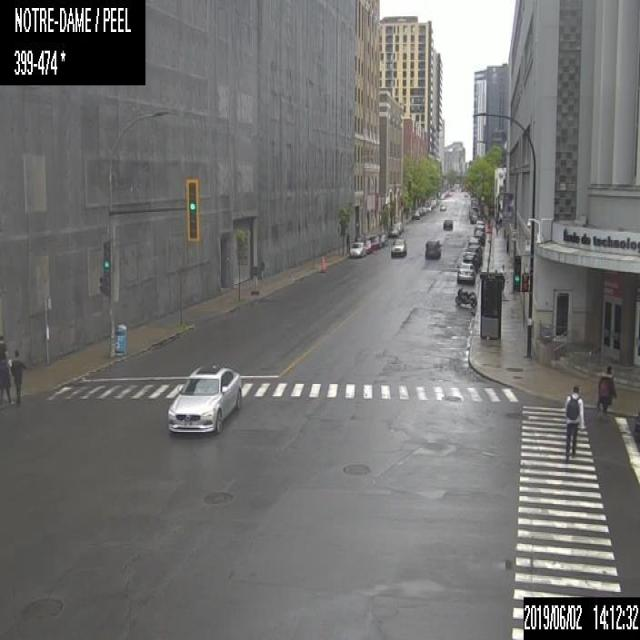construction: (317, 256, 323, 271)
pedestrian: (564, 384, 584, 460), (595, 364, 617, 419), (0, 332, 12, 407), (11, 346, 26, 406)
vehicle: (166, 363, 242, 432), (456, 260, 475, 282), (454, 287, 476, 305), (347, 240, 367, 258), (389, 238, 407, 257), (424, 238, 441, 258), (462, 250, 479, 270), (467, 243, 482, 261), (474, 229, 485, 245), (442, 216, 453, 231), (360, 239, 371, 253), (376, 232, 387, 246), (468, 236, 480, 247), (368, 236, 378, 248), (474, 220, 485, 229), (389, 225, 398, 236), (394, 220, 402, 232), (412, 208, 420, 219), (439, 203, 445, 210)
